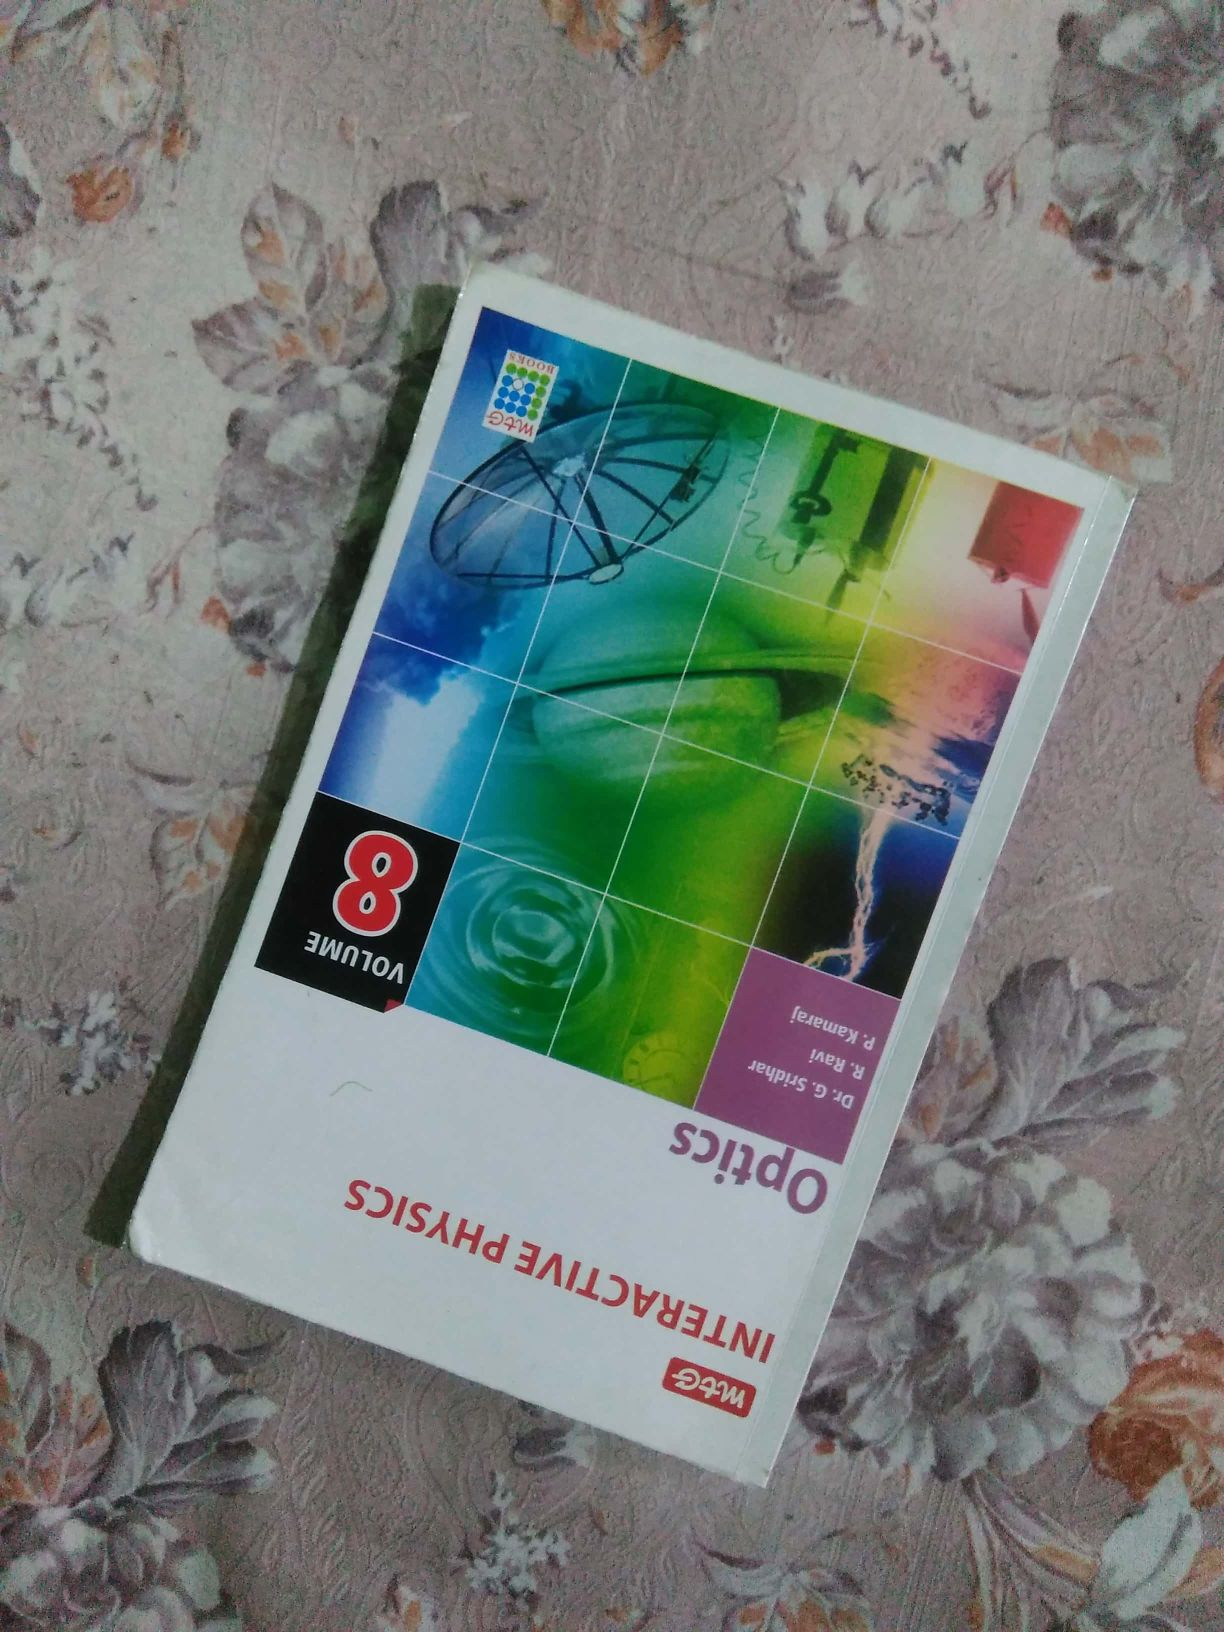optics: (171, 299, 1065, 1488)
